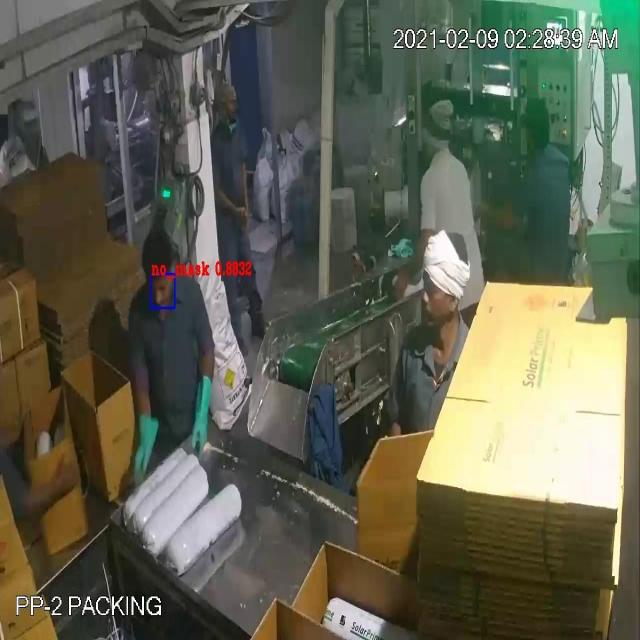No_Gloves: (16, 48, 244, 488)
